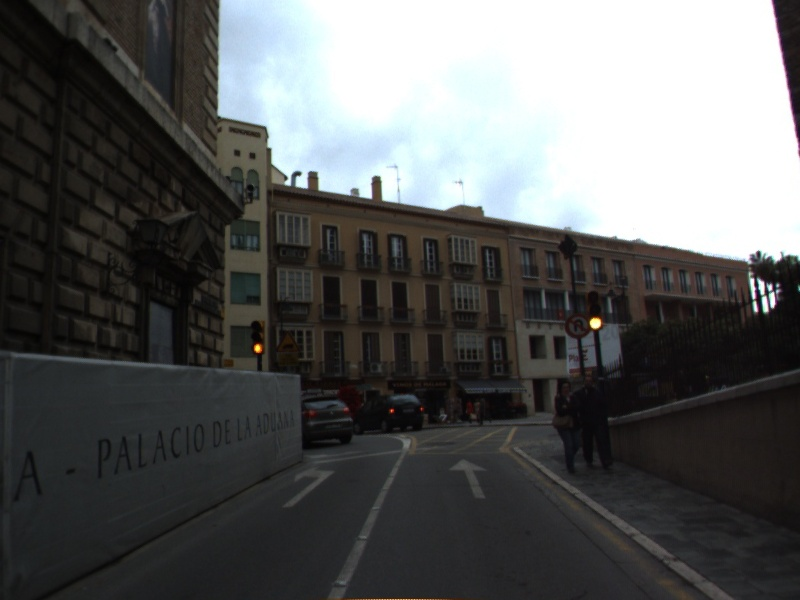LEFT: (280, 463, 338, 509)
STRAIGHT: (447, 456, 491, 501)
